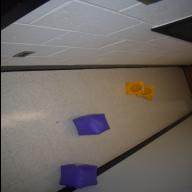cone: (136, 85, 154, 101), (124, 81, 143, 95)
cube: (59, 163, 97, 189), (71, 113, 109, 135)
